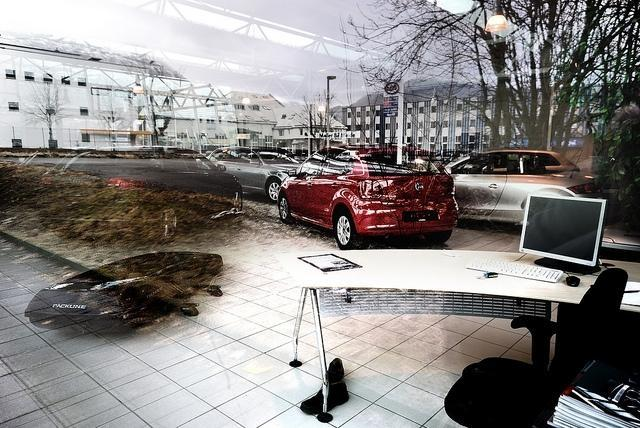car: (22, 146, 242, 246), (276, 144, 458, 248), (443, 149, 602, 228), (206, 146, 298, 204)
